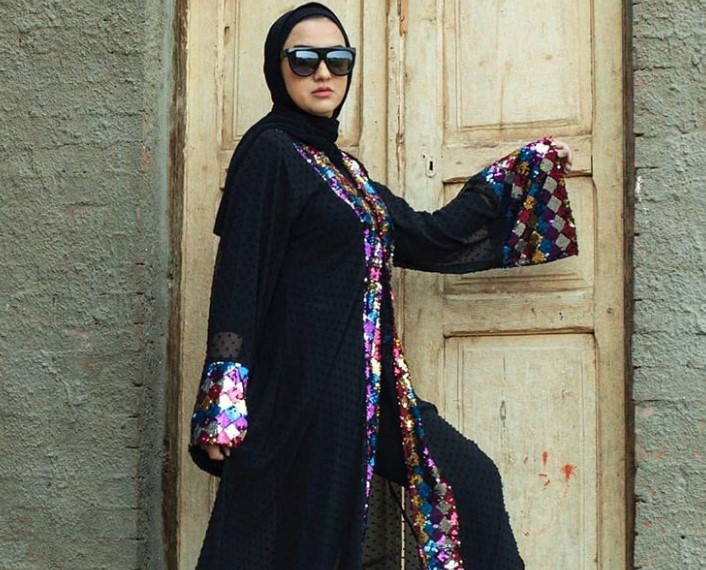face_no_mask: (274, 10, 352, 121)
